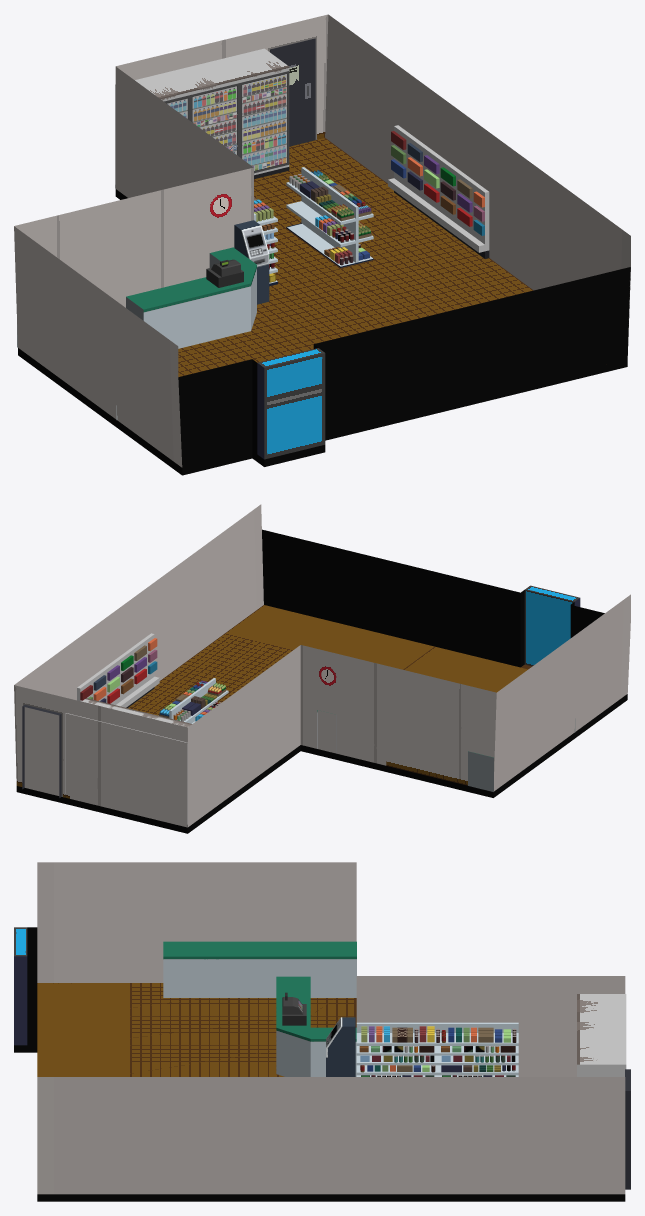
File: gasStationTest.glb
3 views of the same model, one above another, from view 1: azimuth 30°, elevation 25°; view 2: azimuth 150°, elevation 25°; view 3: azimuth 270°, elevation 25° (orthographic). The views are drawn at different scales.
Visible parts, largest first — view 1: building.001, cooler, desk, wallAisle, centerAisle, door, atm, Ltop, register2, leftItems; view 2: building.001, wallAisle, counter, cooler, Ltop, centerAisle, door; view 3: building.001, counter, leftItems, leftShelf, cooler, desk, atm, door, register2.
Boxes of the visible parts, x1,y1,x2,y2 form: building.001: (14, 14, 630, 475); cooler: (115, 48, 289, 188); desk: (126, 247, 256, 348); wallAisle: (388, 125, 489, 258); centerAisle: (286, 167, 373, 267); door: (270, 38, 315, 146); atm: (234, 220, 269, 304); Ltop: (289, 174, 354, 221); register2: (206, 259, 243, 287); leftItems: (254, 197, 275, 282); building.001: (14, 504, 630, 833); wallAisle: (77, 633, 159, 707); counter: (468, 718, 575, 791); cooler: (65, 698, 191, 827); Ltop: (173, 682, 226, 721); centerAisle: (169, 678, 228, 723); door: (22, 705, 61, 797); building.001: (14, 862, 625, 1201); counter: (163, 941, 356, 997); leftItems: (359, 1026, 516, 1076); leftShelf: (356, 1022, 518, 1076); cooler: (577, 994, 626, 1076); desk: (276, 976, 356, 1076); atm: (326, 1017, 355, 1076); door: (625, 1069, 630, 1189); register2: (282, 992, 306, 1025).
Size of the model in its own units: 9.41 by 2.59 by 11.43.
11 materials, 11 textured.
